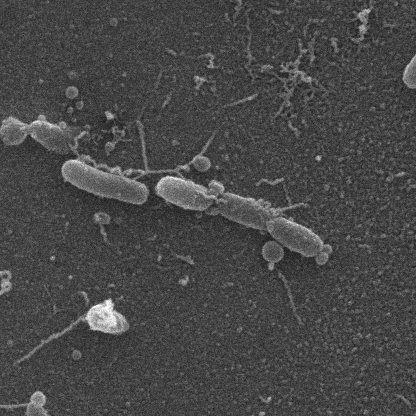cell2surface: (18, 312, 88, 364), (176, 136, 222, 175), (132, 115, 151, 181), (272, 198, 316, 215)
filament: (15, 400, 68, 416)
regular: (62, 161, 151, 206), (265, 215, 332, 267), (216, 194, 272, 233), (157, 176, 216, 212), (29, 122, 80, 155), (87, 305, 130, 336), (405, 25, 416, 87)
